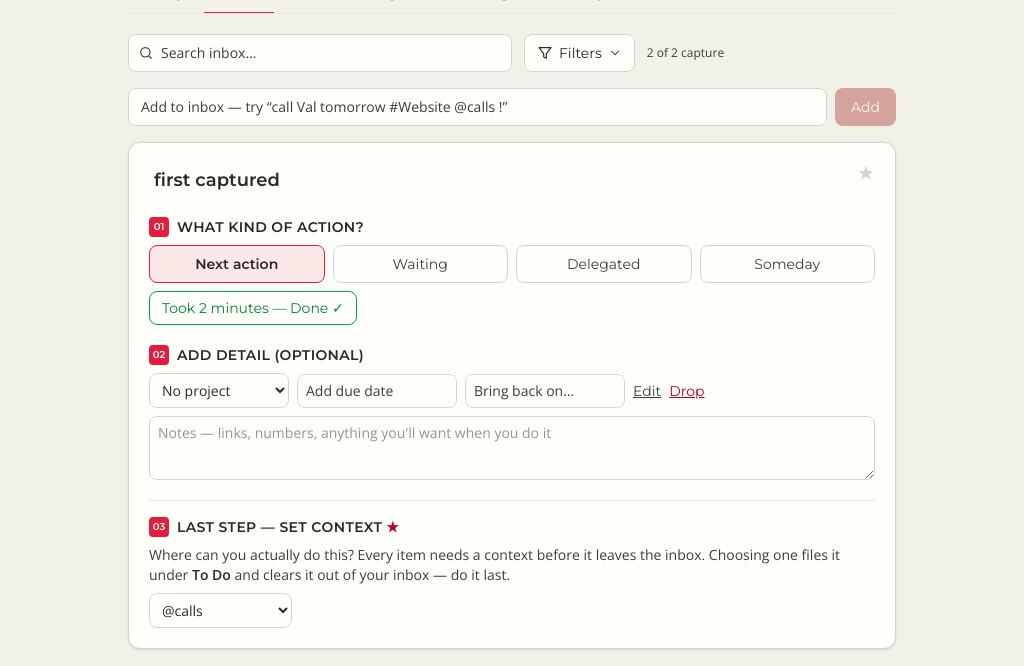
Scenario: InboxPage — the undo block sits inline (#265) › undoing from the inline block restores the row and clears the block
Select "@calls" in the dropdown named "Set context and file this todo": (220, 610) [149, 593, 292, 628]
(page scrolled)
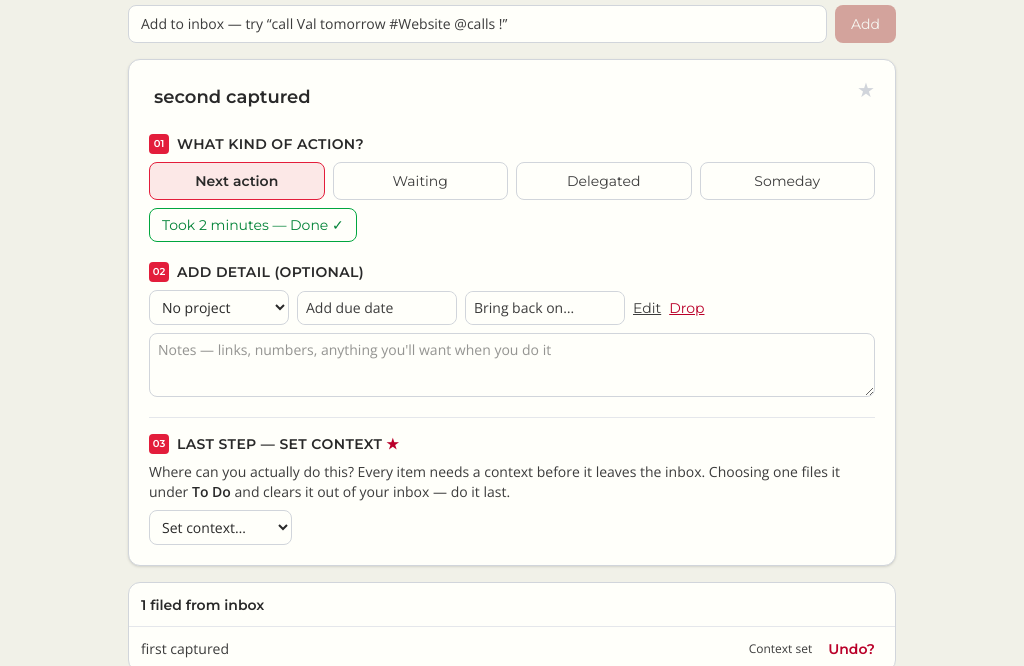
Expected: the button titled "Click to rename" reads "second captured", [149, 80, 316, 114]
Click the button with aria-label "Undo filing “first captured”": click(852, 649) [820, 635, 883, 663]
(page scrolled)
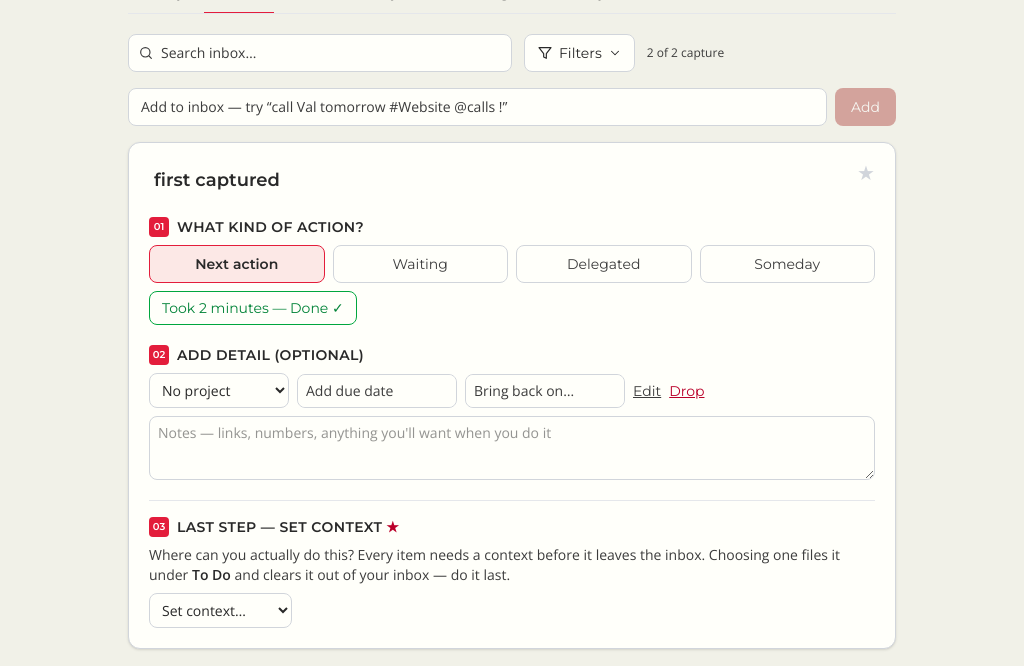
Expected: the button titled "Click to rename" reads "first captured", [149, 163, 285, 197]
